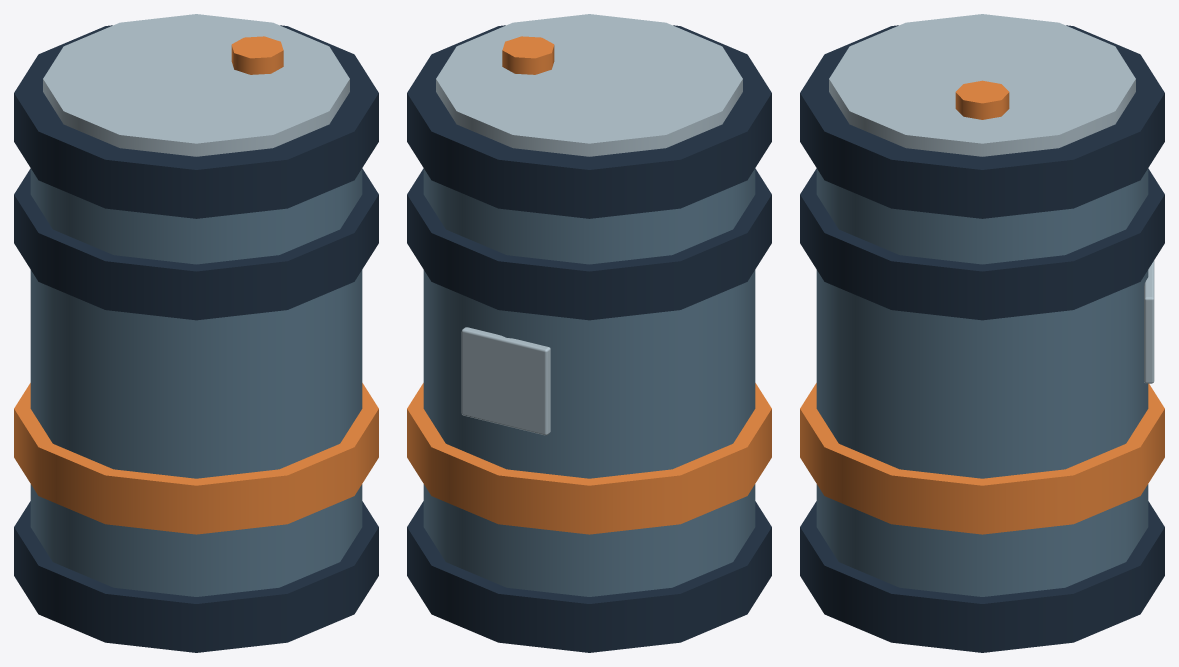
Rendered from storage-barrel.glb.
The picture shows the model from 3 angles, left to right: view 1: azimuth 30°, elevation 25°; view 2: azimuth 150°, elevation 25°; view 3: azimuth 270°, elevation 25°; orthographic projection.
Parts seen in each view (by area): view 1: body, lid, band-1.22, band-0.95, band-0.38, band-0.065, bung; view 2: body, lid, band-1.22, band-0.95, band-0.38, band-0.065, label, bung; view 3: body, lid, band-1.22, band-0.95, band-0.38, band-0.065, bung, label.
Part boxes in pixels (box(x1,y1,x2,y2)): body: box(30, 168, 362, 596); lid: box(43, 14, 349, 156); band-1.22: box(14, 25, 378, 218); band-0.95: box(14, 168, 378, 320); band-0.38: box(14, 383, 378, 534); band-0.065: box(14, 501, 378, 652); bung: box(231, 36, 283, 74); body: box(423, 168, 755, 596); lid: box(436, 14, 742, 156); band-1.22: box(407, 25, 771, 218); band-0.95: box(407, 168, 771, 320); band-0.38: box(407, 383, 771, 534); band-0.065: box(407, 501, 771, 652); label: box(461, 327, 550, 435); bung: box(502, 36, 554, 74); body: box(816, 168, 1148, 596); lid: box(829, 14, 1135, 156); band-1.22: box(800, 25, 1164, 218); band-0.95: box(800, 168, 1164, 320); band-0.38: box(800, 383, 1164, 534); band-0.065: box(800, 501, 1164, 652); bung: box(955, 80, 1009, 119); label: box(1144, 260, 1154, 383).
Bounding box in the file's own units: 0.88 × 1.37 × 0.88.
